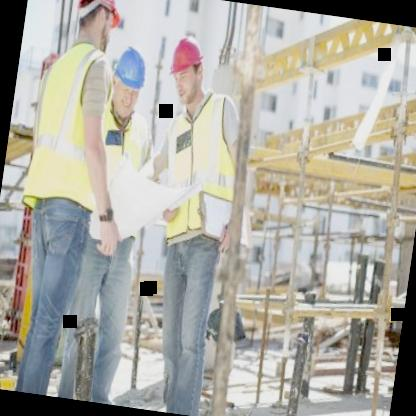helmet: (104, 37, 152, 126), (163, 29, 211, 108), (67, 0, 126, 54)
